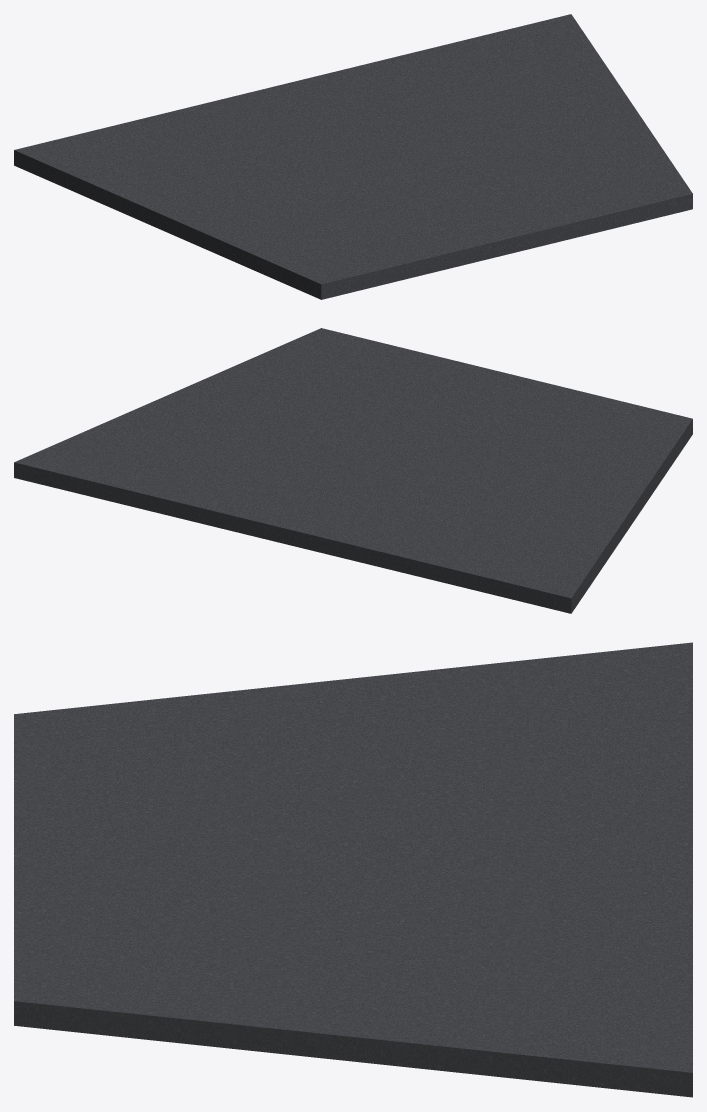
File: MS_RD_06_Transition_6to4.glb
3 renders of one model, top to bottom at view 1: azimuth 30°, elevation 25°; view 2: azimuth 150°, elevation 25°; view 3: azimuth 270°, elevation 25°, orthographic. The views are drawn at different scales.
Visible parts, largest first — view 1: Asphalt.005; view 2: Asphalt.005; view 3: Asphalt.005.
Boxes of the visible parts, x1,y1,x2,y2 form: Asphalt.005: [14, 14, 692, 299]; Asphalt.005: [14, 328, 692, 613]; Asphalt.005: [14, 642, 692, 1097].
Bounding box in the file's own units: 6 × 0.16 × 4.
Materials: 1 (1 with a texture image).
